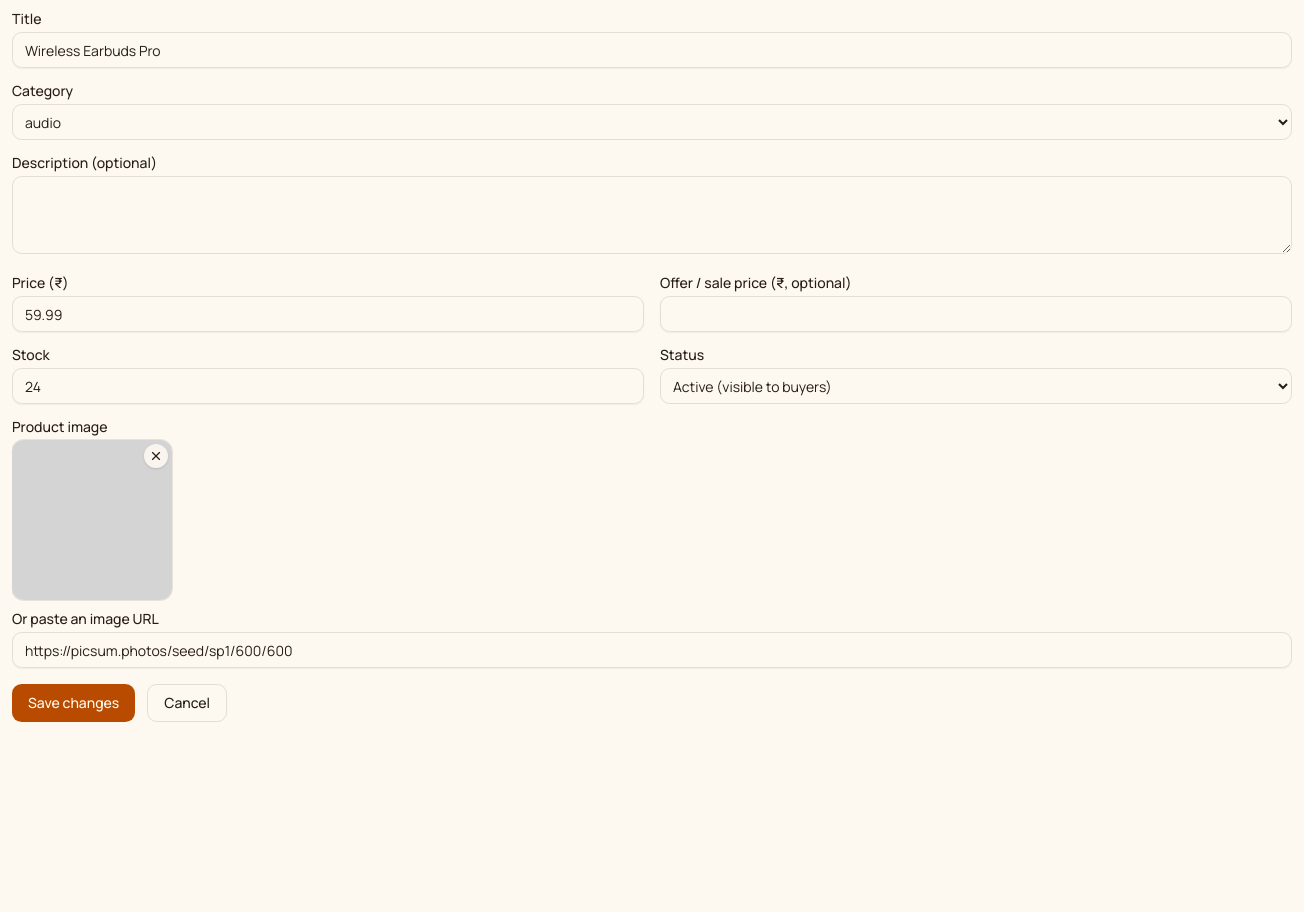
Test: EditProductForm › blocks a sale price that is not below the regular price
The image size is (1304, 912).
Expected: the field labelled "Title" is shown, [12,32,1292,68]
Replace the text in the number field labelled "Price (₹)" with "50" at coordinates (328, 314), box [12,296,644,332]
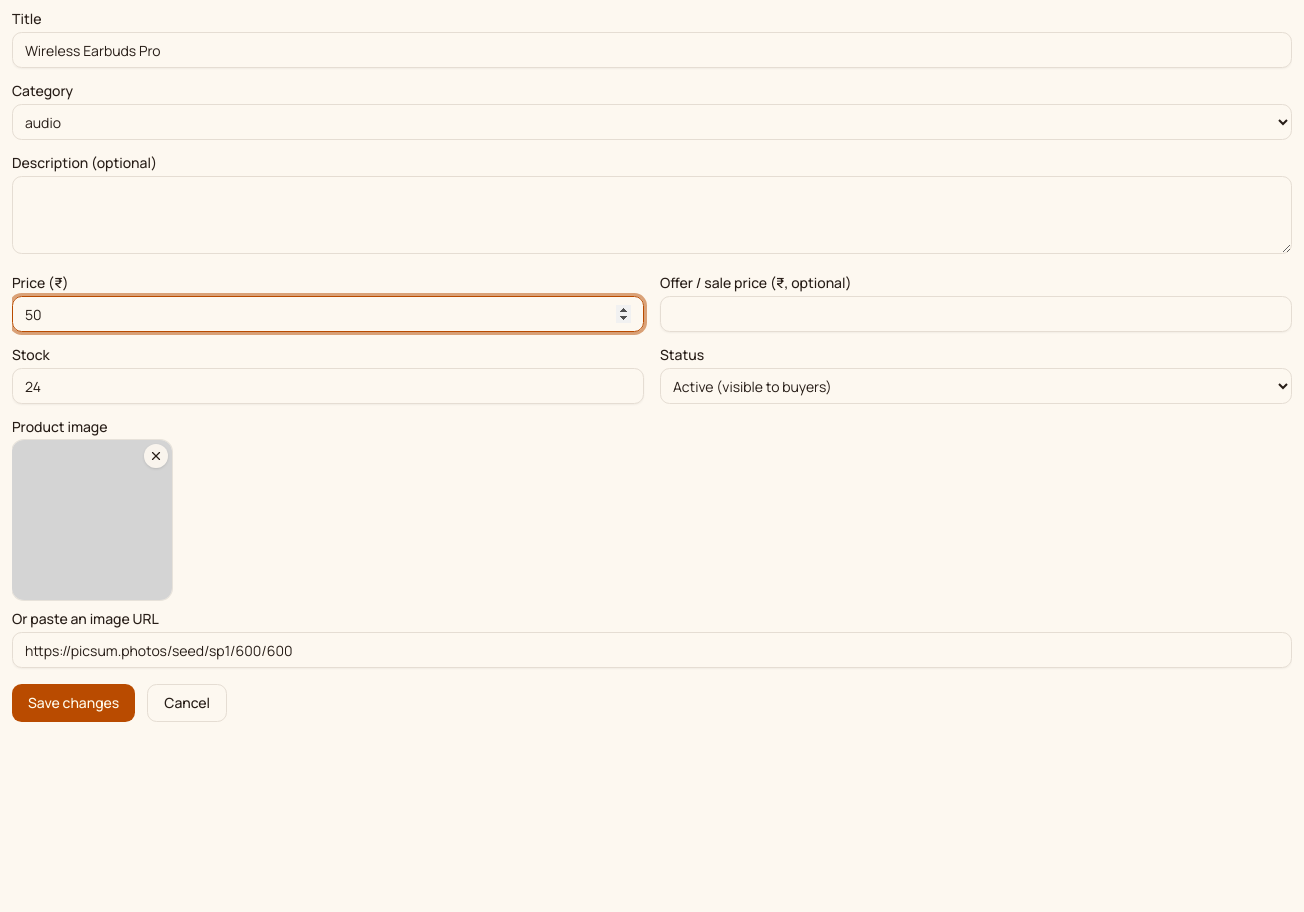
Type "60" into the number field labelled "Offer / sale price (₹, optional)" at coordinates (976, 314), box [660,296,1292,332]
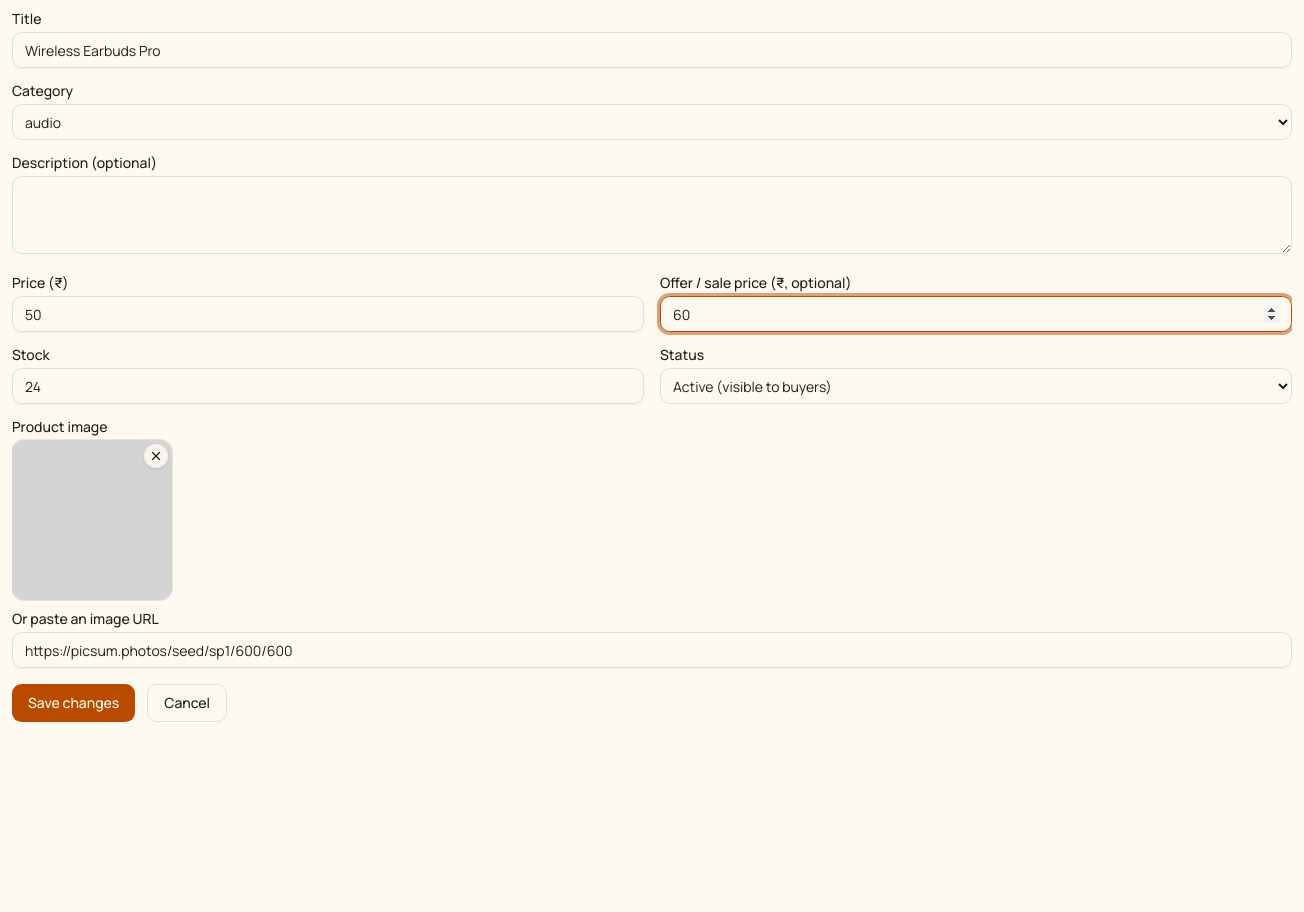
Click the button "Save changes" at coordinates (74, 703), box [12,684,135,722]
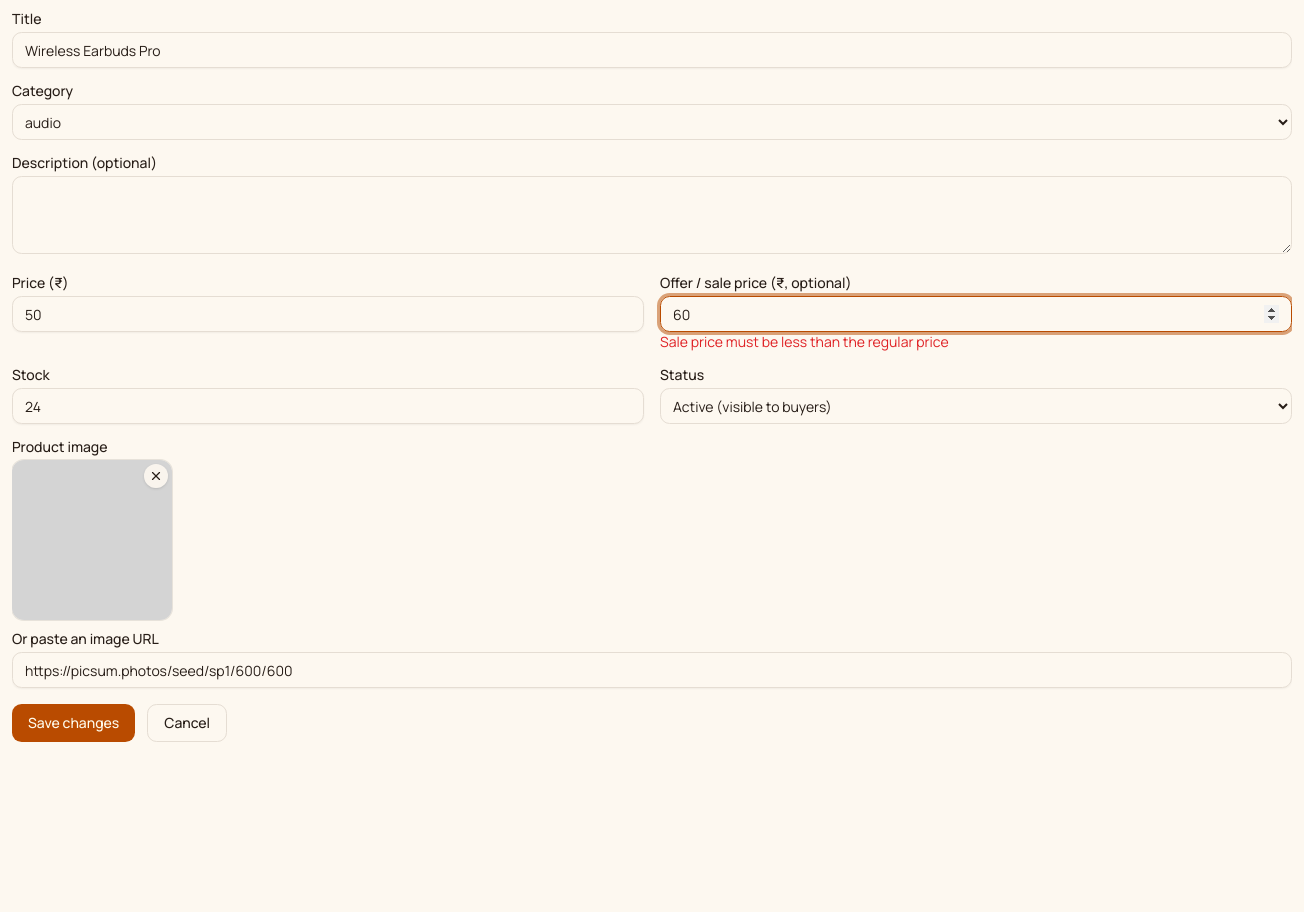
Expected: the message "Sale price must be less than the regular price" is shown, [660,332,949,351]
